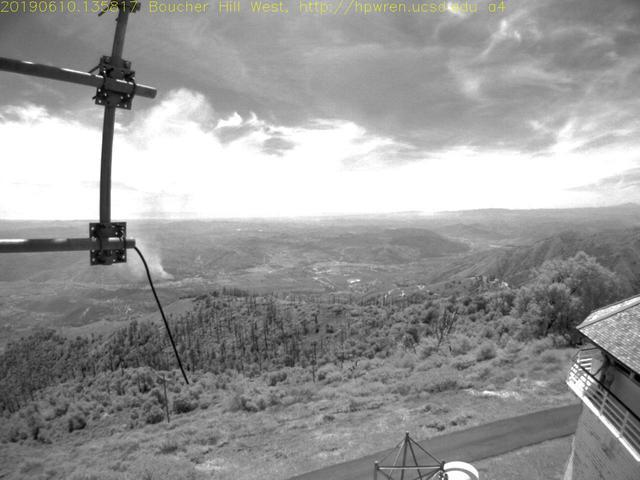Smoke: (126, 200, 181, 284)
